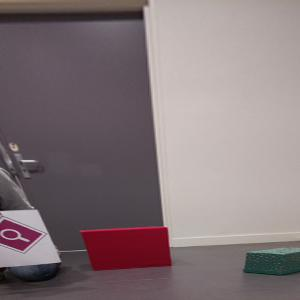search: (1, 215, 47, 254)
